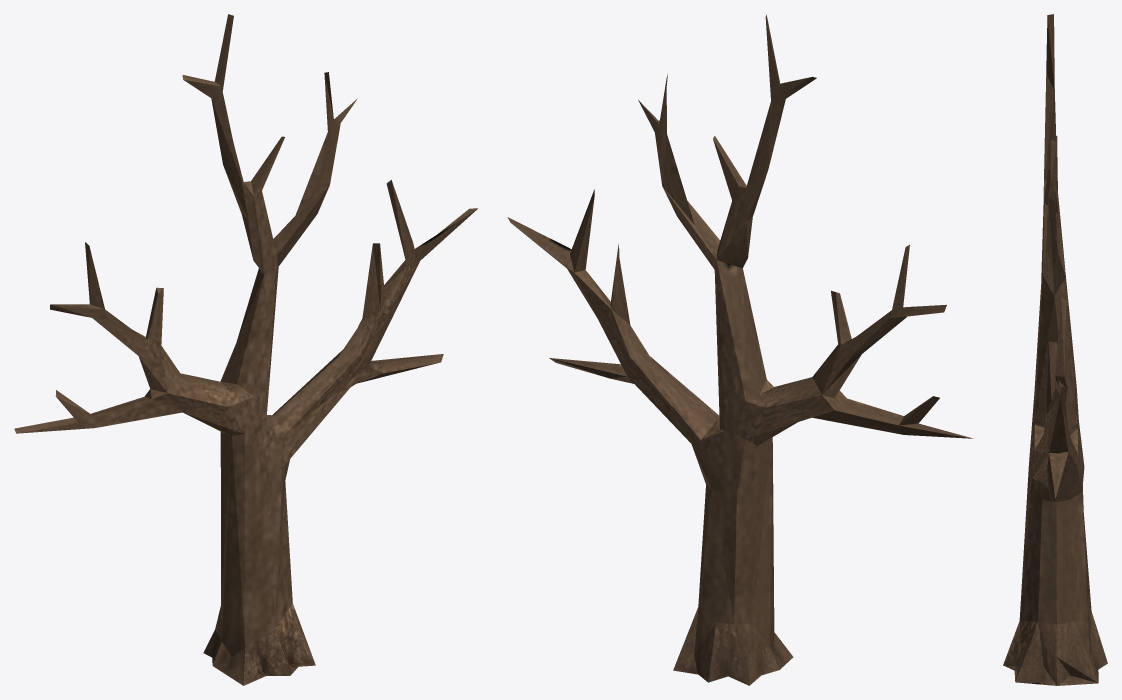
The picture shows the model from 3 angles, left to right: view 1: azimuth 30°, elevation 25°; view 2: azimuth 150°, elevation 25°; view 3: azimuth 270°, elevation 25°; orthographic projection. The views are drawn at different scales.
Parts seen in each view (by area): view 1: output_unwrapped; view 2: output_unwrapped; view 3: output_unwrapped.
Boxes of the visible parts, x1,y1,x2,y2 form: output_unwrapped: [14, 14, 477, 685]; output_unwrapped: [507, 14, 972, 685]; output_unwrapped: [1003, 14, 1107, 685].
Bounding box in the file's own units: 1.48 × 1.99 × 0.2971.
Materials: 1 (1 with a texture image).
